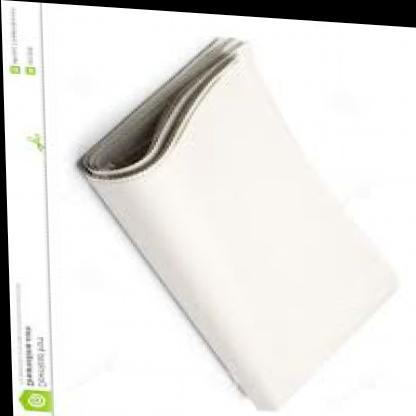Paper: (57, 12, 387, 416)
